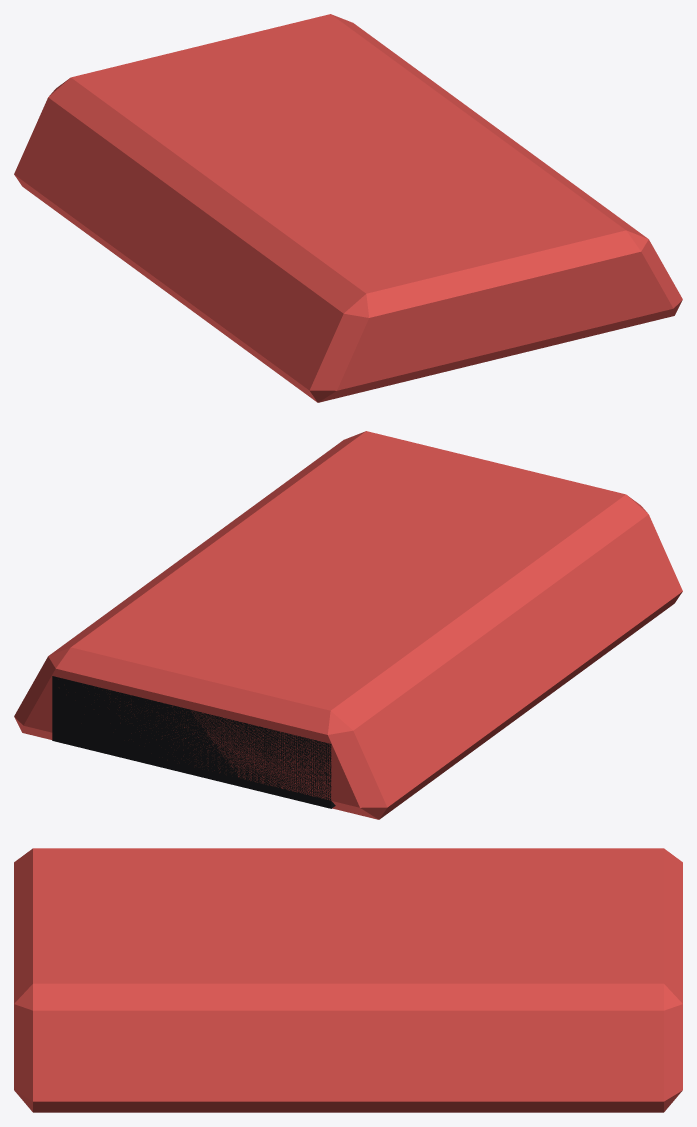
File: roof_scoop.glb
The picture shows the model from 3 angles, top to bottom: view 1: azimuth 30°, elevation 25°; view 2: azimuth 150°, elevation 25°; view 3: azimuth 270°, elevation 25°; orthographic projection. The views are drawn at different scales.
Visible parts, largest first — view 1: roof_scoop__mesh; view 2: roof_scoop__mesh; view 3: roof_scoop__mesh.
Part boxes in pixels (x1,y1,x2,y2): roof_scoop__mesh: (14, 14, 682, 402); roof_scoop__mesh: (14, 431, 682, 819); roof_scoop__mesh: (14, 848, 682, 1112).
Size of the model in its own units: 0.4815 by 0.12 by 0.7.
Materials: 2 (1 with a texture image).
